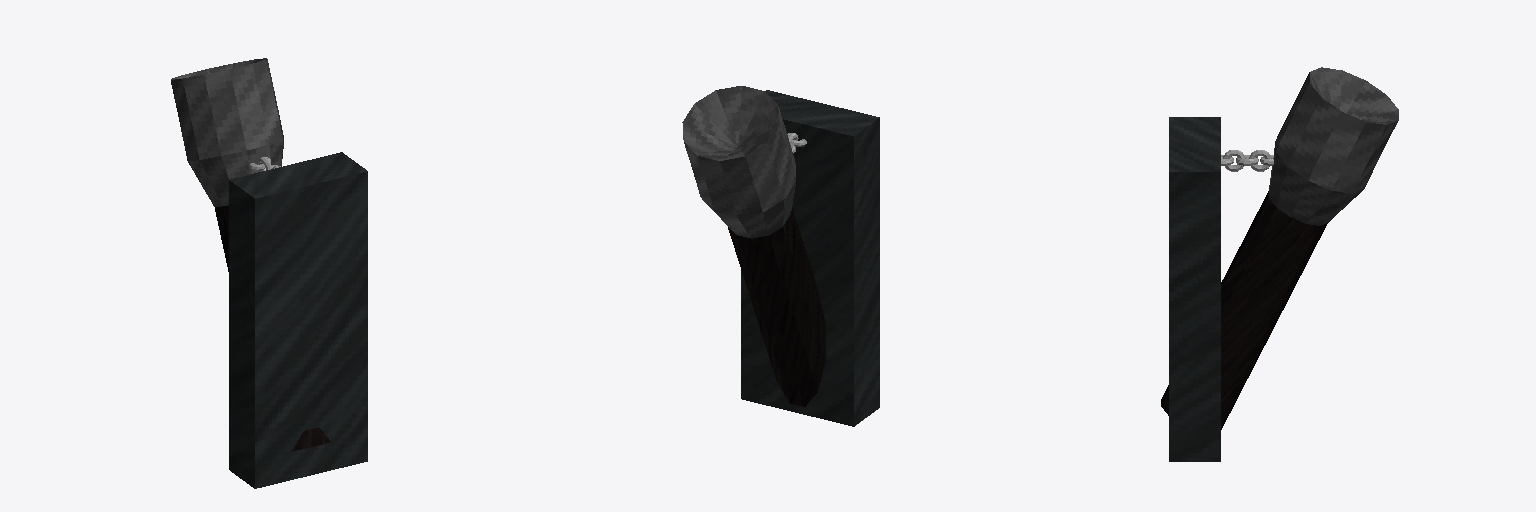
3 renders of one model, left to right at view 1: azimuth 30°, elevation 25°; view 2: azimuth 150°, elevation 25°; view 3: azimuth 270°, elevation 25°, orthographic.
Visible parts, largest first — view 1: Connector, cylinder; view 2: Connector, cylinder; view 3: cylinder, Connector, Chainlink.
Boxes of the visible parts, x1,y1,x2,y2 form: Connector: [229, 152, 367, 488]; cylinder: [171, 58, 330, 451]; Connector: [741, 90, 879, 426]; cylinder: [682, 86, 825, 406]; cylinder: [1161, 67, 1398, 429]; Connector: [1169, 117, 1220, 461]; Chainlink: [1221, 150, 1273, 171].
Bounding box in the file's own units: 0.125 × 0.3769 × 0.2269.
Materials: 1 (1 with a texture image).